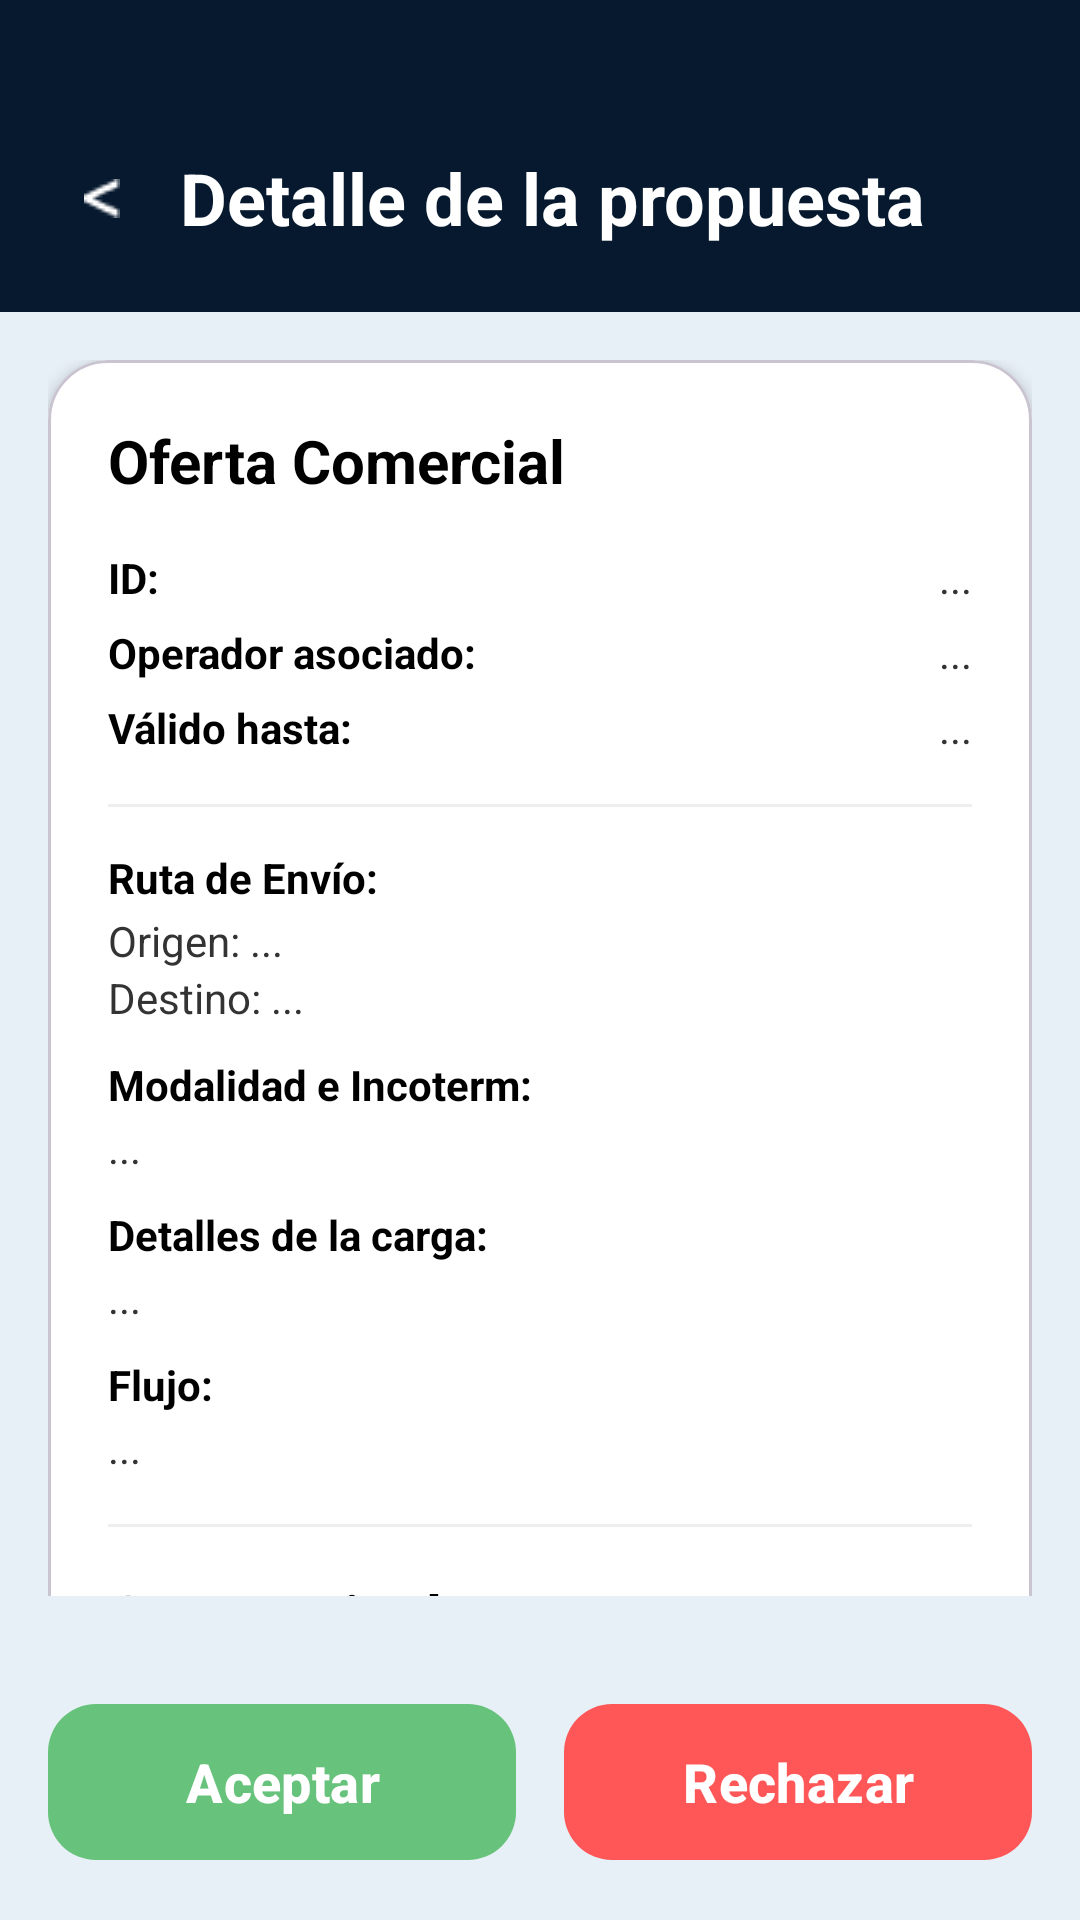

Locate icon controls on the screen. Image size 1080×1920, boxes as (x1, y1, x2, y2).
arrow back: (84, 179, 120, 218)
